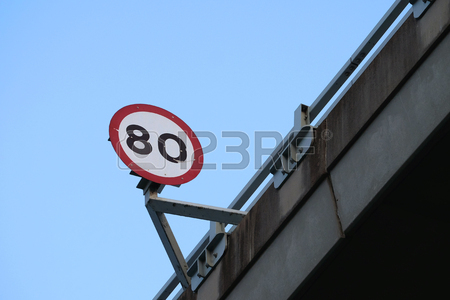Speed_limit_80km: (108, 103, 205, 184)
